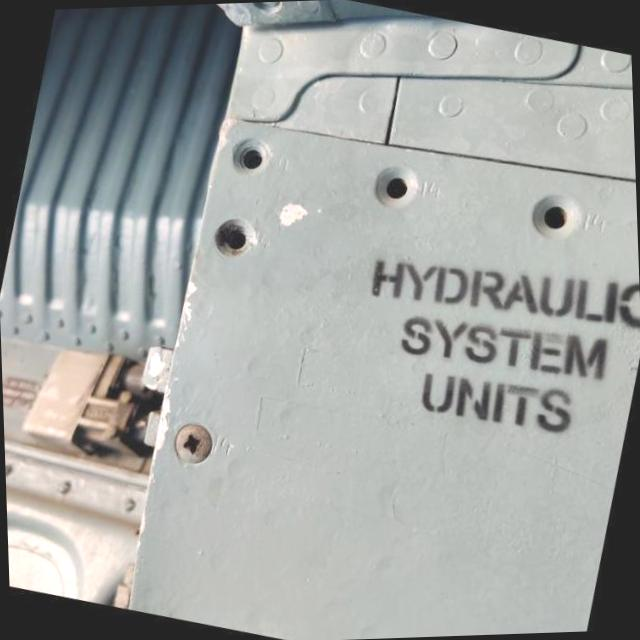Missing Fastener: (520, 188, 584, 245), (367, 162, 422, 219), (205, 212, 255, 268), (228, 136, 273, 183)
